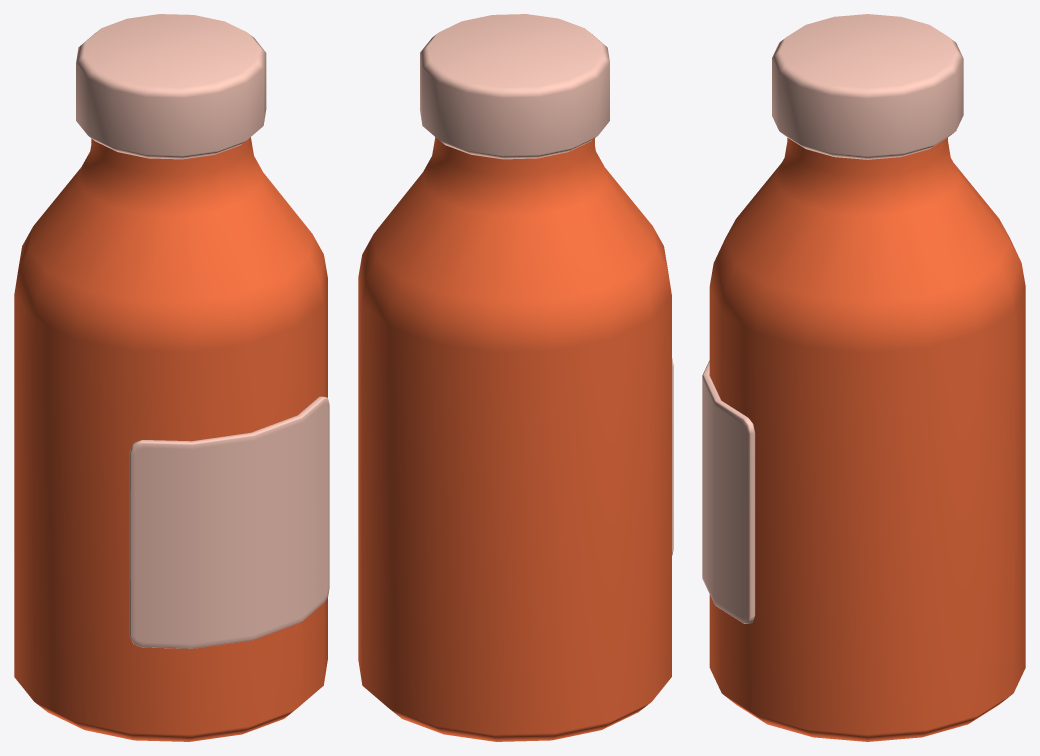
The model's file is milk.glb.
The picture shows the model from 3 angles, left to right: view 1: azimuth 30°, elevation 25°; view 2: azimuth 150°, elevation 25°; view 3: azimuth 270°, elevation 25°; orthographic projection.
Visible parts, largest first — view 1: Bottle_1; view 2: Bottle_1; view 3: Bottle_1.
Part boxes in pixels (x1=…): Bottle_1: x1=14, y1=14, x2=329, y2=741; Bottle_1: x1=358, y1=14, x2=673, y2=741; Bottle_1: x1=702, y1=14, x2=1025, y2=741.
Bounding box in the file's own units: 0.1305 × 0.2876 × 0.1336.
1 material, 1 textured.
